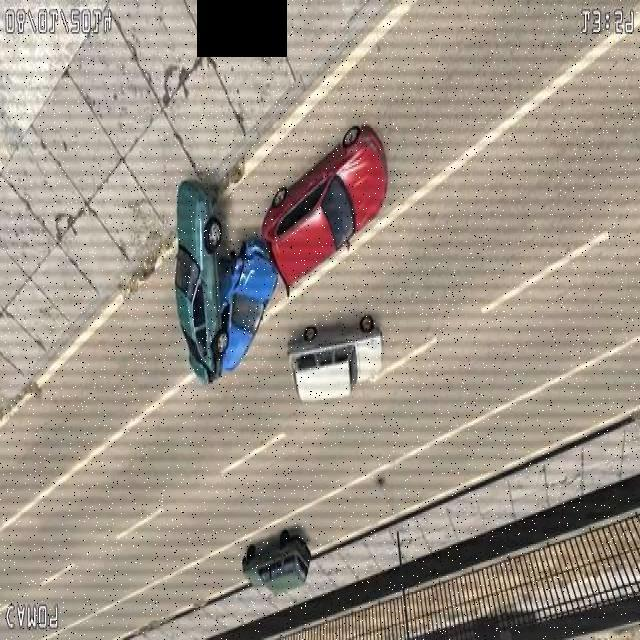moderate: (217, 118, 391, 378)
severe: (174, 176, 279, 394)
